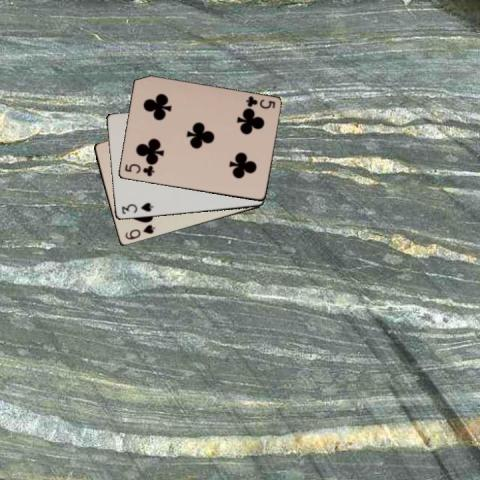3s: (119, 200, 154, 215)
5c: (243, 93, 276, 111), (122, 161, 155, 178)
6s: (122, 222, 156, 241)
